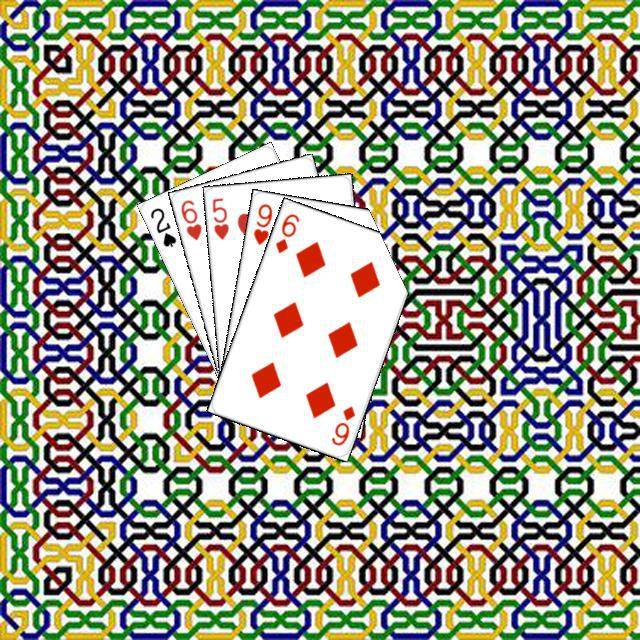2s: (145, 203, 178, 249)
5h: (207, 193, 230, 241)
6d: (270, 209, 301, 255), (326, 401, 357, 447)
6h: (176, 195, 203, 242)
9h: (248, 199, 274, 247)
